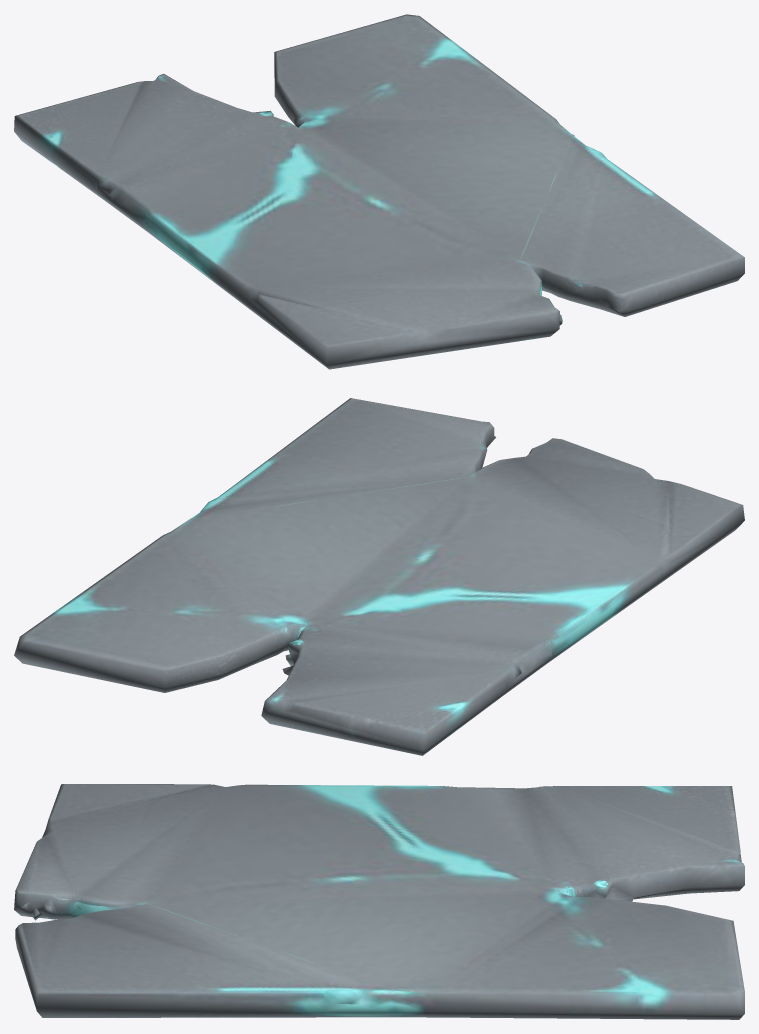
Rendered from 04 junk.glb.
The picture shows the model from 3 angles, top to bottom: view 1: azimuth 30°, elevation 25°; view 2: azimuth 150°, elevation 25°; view 3: azimuth 270°, elevation 25°; orthographic projection. The views are drawn at different scales.
Parts seen in each view (by area): view 1: tripo_node_a9543389-789e-41c0-8fd2-30fa7eebcdd9; view 2: tripo_node_a9543389-789e-41c0-8fd2-30fa7eebcdd9; view 3: tripo_node_a9543389-789e-41c0-8fd2-30fa7eebcdd9.
Boxes of the visible parts, box(x1,y1,x2,y2) form: tripo_node_a9543389-789e-41c0-8fd2-30fa7eebcdd9: box(14, 14, 744, 369); tripo_node_a9543389-789e-41c0-8fd2-30fa7eebcdd9: box(14, 398, 744, 755); tripo_node_a9543389-789e-41c0-8fd2-30fa7eebcdd9: box(14, 784, 744, 1019).
Bounding box in the file's own units: 0.1 × 0.00595 × 0.1448.
1 material, 1 textured.
